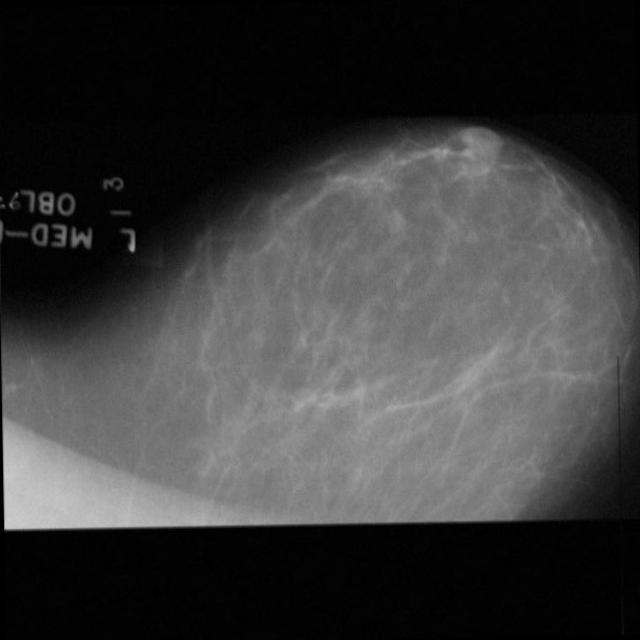CALC: (276, 349, 332, 405)
